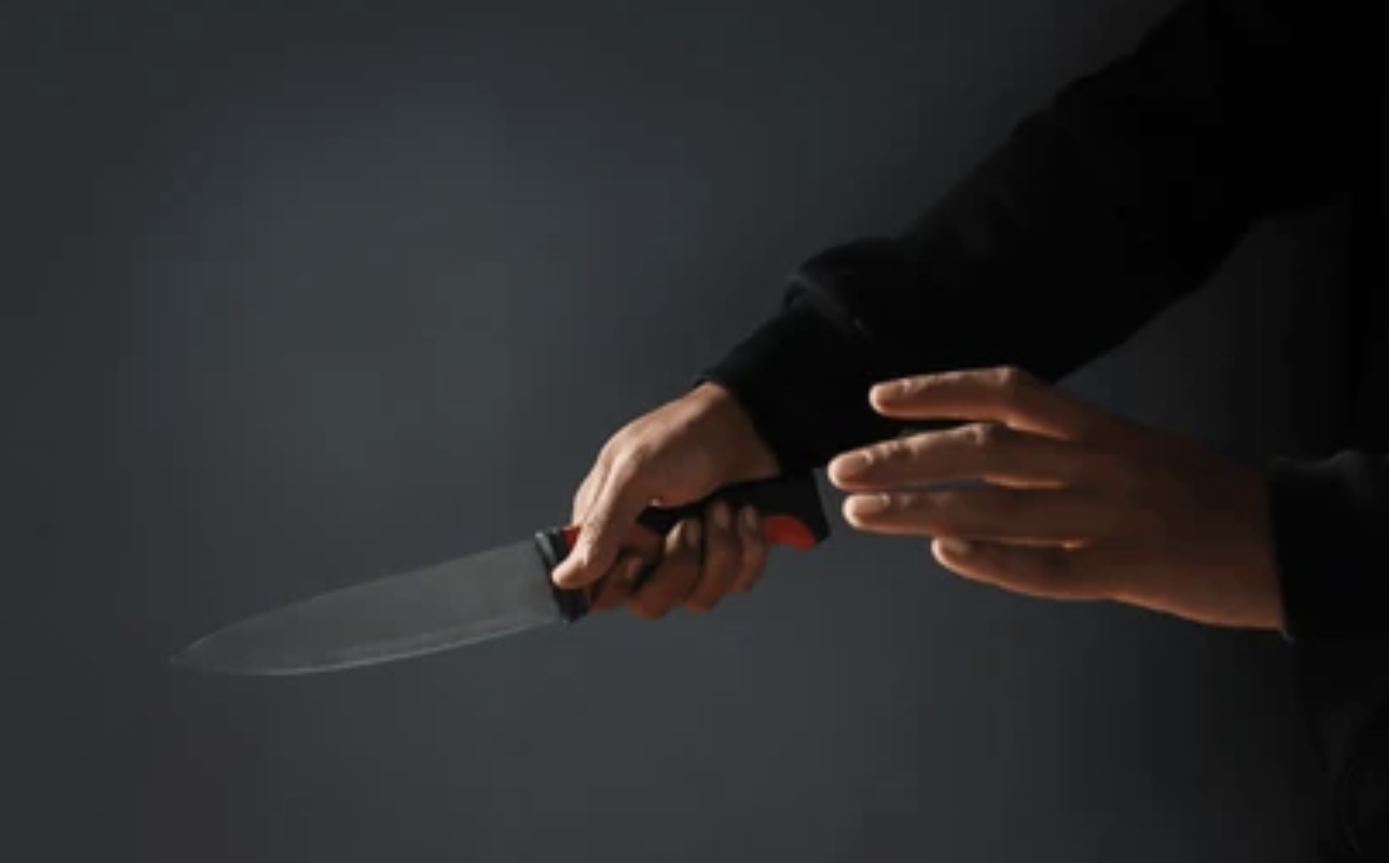knife_61.png: (168, 458, 890, 704)
